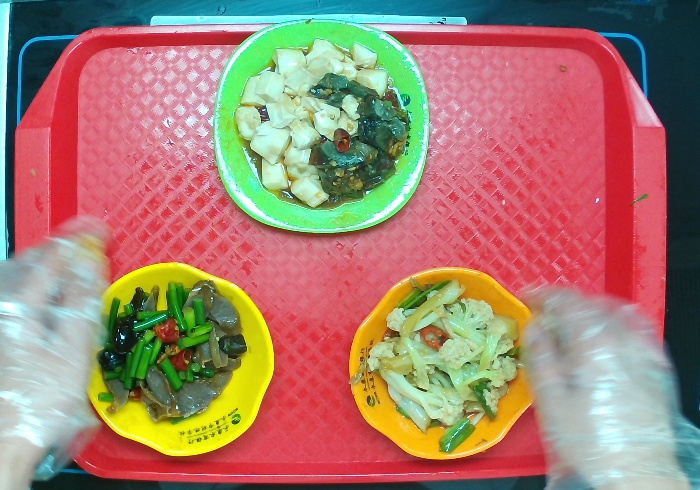YKMZ-Huang_Se_Ao_Bian_Wan: (78, 251, 293, 463)
YKMZ-Ju_Se_Ao_Bian_Wan: (342, 259, 546, 465)
YKMZ-Lv_Se_Fang_Die: (208, 14, 439, 241)
